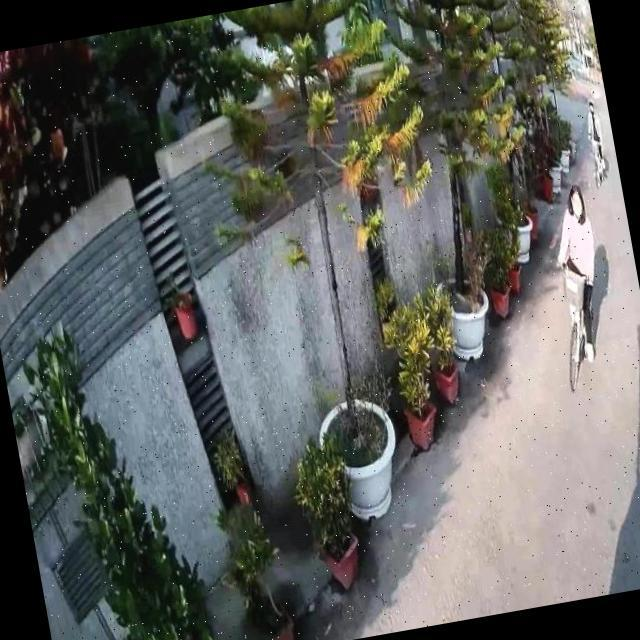person: (538, 177, 614, 366), (580, 96, 610, 179)
